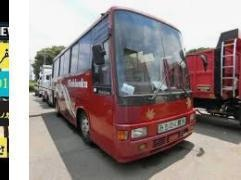bus: (48, 5, 195, 167)
